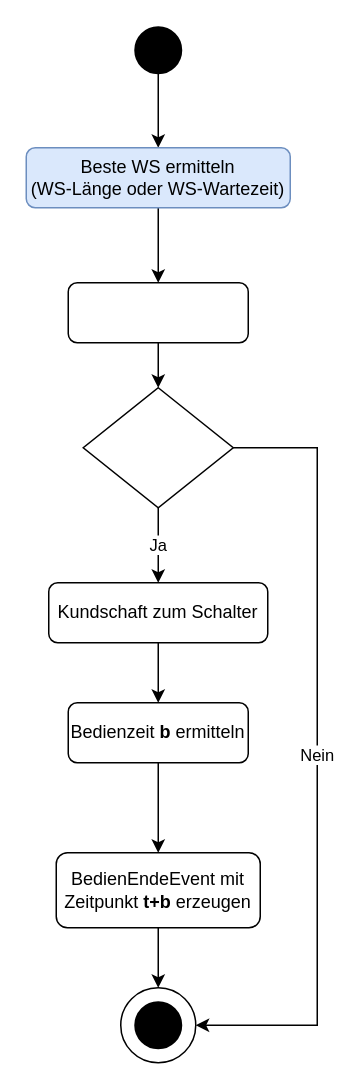
Some shapes in this 360 by 1089 pixel diagram are drawn without their labels. Each missing label, with the box of its shape:
Kundschaft in WS: (67, 281, 248, 343)
Schalter frei: (82, 386, 233, 508)
